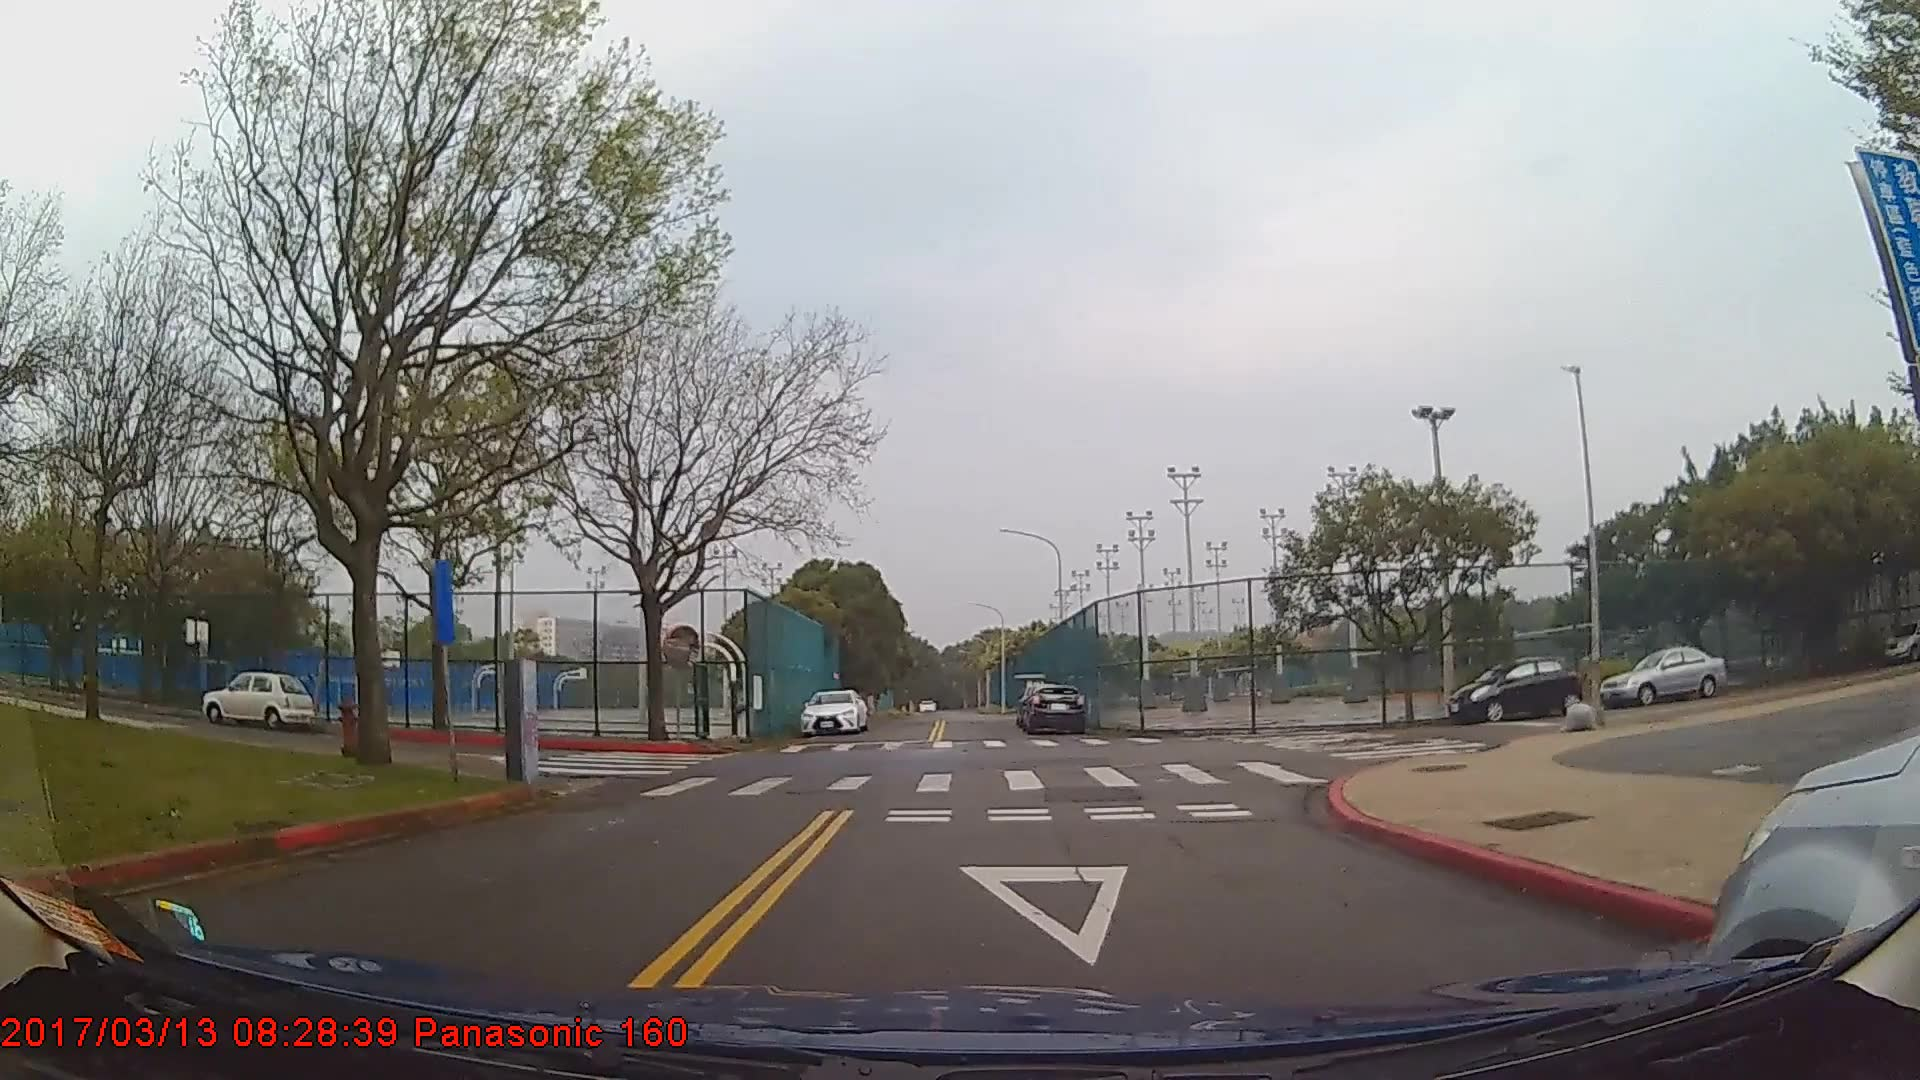vehicle: (1445, 655, 1580, 723), (1600, 644, 1730, 707), (200, 665, 314, 725), (1018, 680, 1085, 735), (796, 687, 866, 736), (1883, 620, 1920, 662)
